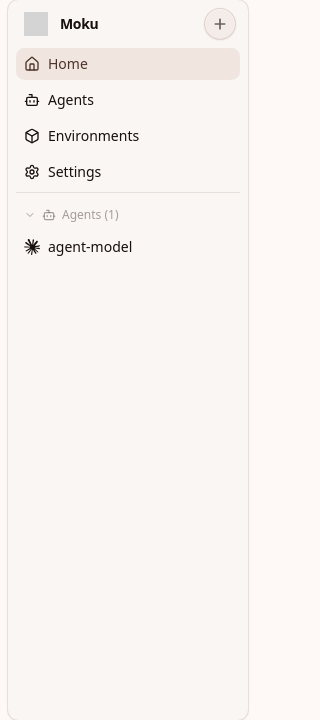
Test: Sidebar › toggling Agent Runs section hides/shows agent sessions
Expected: the text "agent-model" is shown, top-left (48, 237), bottom-right (132, 257)
Step 1. Click the button "Agents (1)" → x=128, y=215, box top-left (16, 201), bottom-right (240, 229)
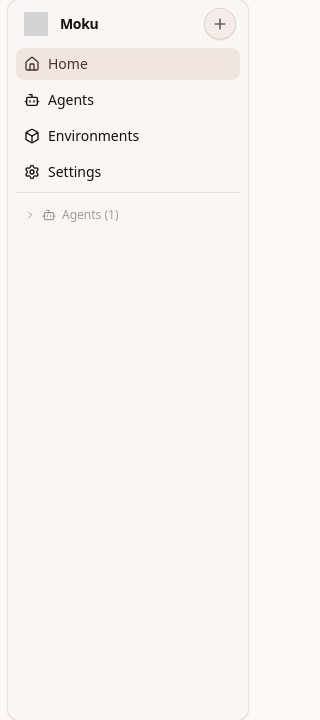
Result: the button "agent-model" is gone
Note: Expand again
Step 2. Click the button "Agents (1)" → x=128, y=215, box top-left (16, 201), bottom-right (240, 229)
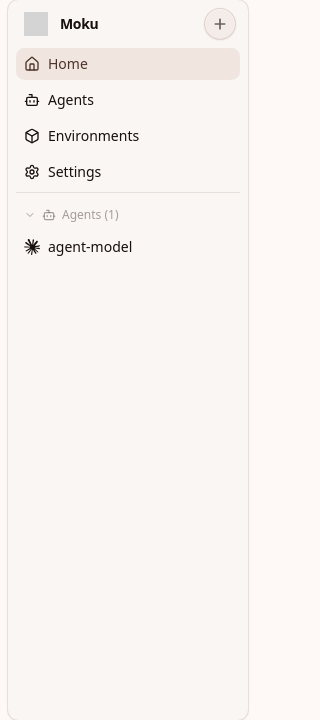
Result: the text "agent-model" is shown at top-left (48, 237), bottom-right (132, 257)
